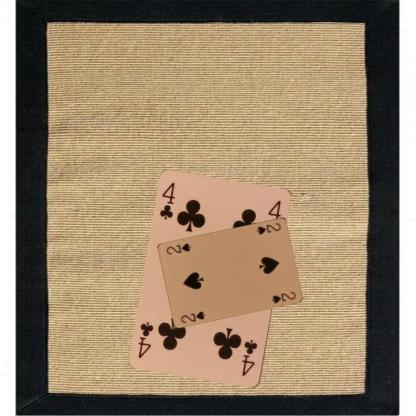2s: (254, 220, 282, 236), (178, 309, 206, 324)
4c: (239, 337, 259, 378), (157, 180, 176, 221)
